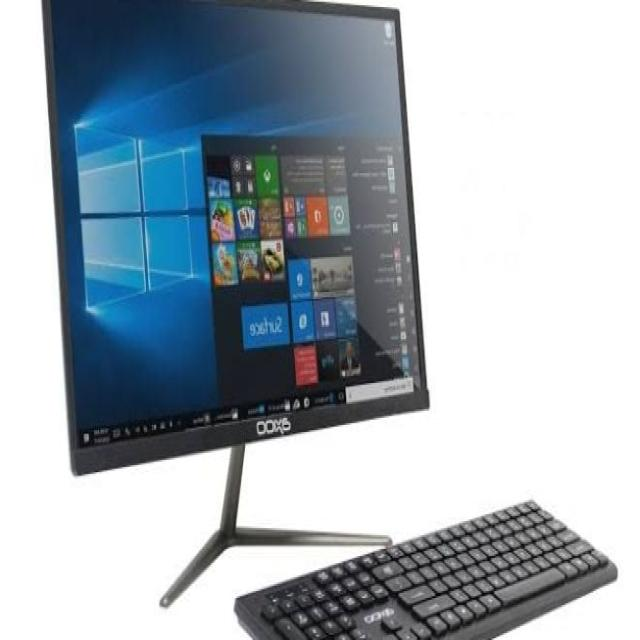monitor: (34, 0, 432, 617)
